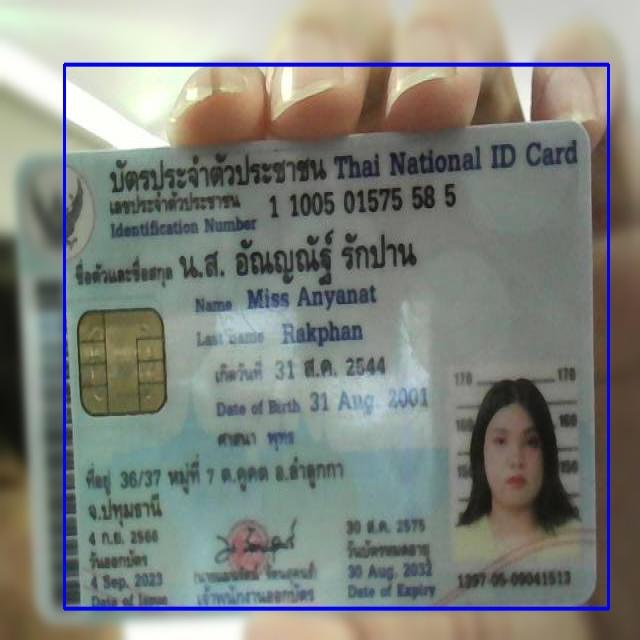Address_th: (81, 445, 346, 530)
Date_of_Birth: (306, 382, 431, 420)
Date_of_Expiry: (345, 558, 439, 584)
Date_of_Issue: (88, 570, 166, 594)
First_Name: (244, 283, 384, 315)
ID_Number: (264, 182, 467, 222)
Image: (452, 365, 585, 571)
Last_Name: (276, 317, 368, 350)
Thai_Name: (178, 223, 430, 288)
